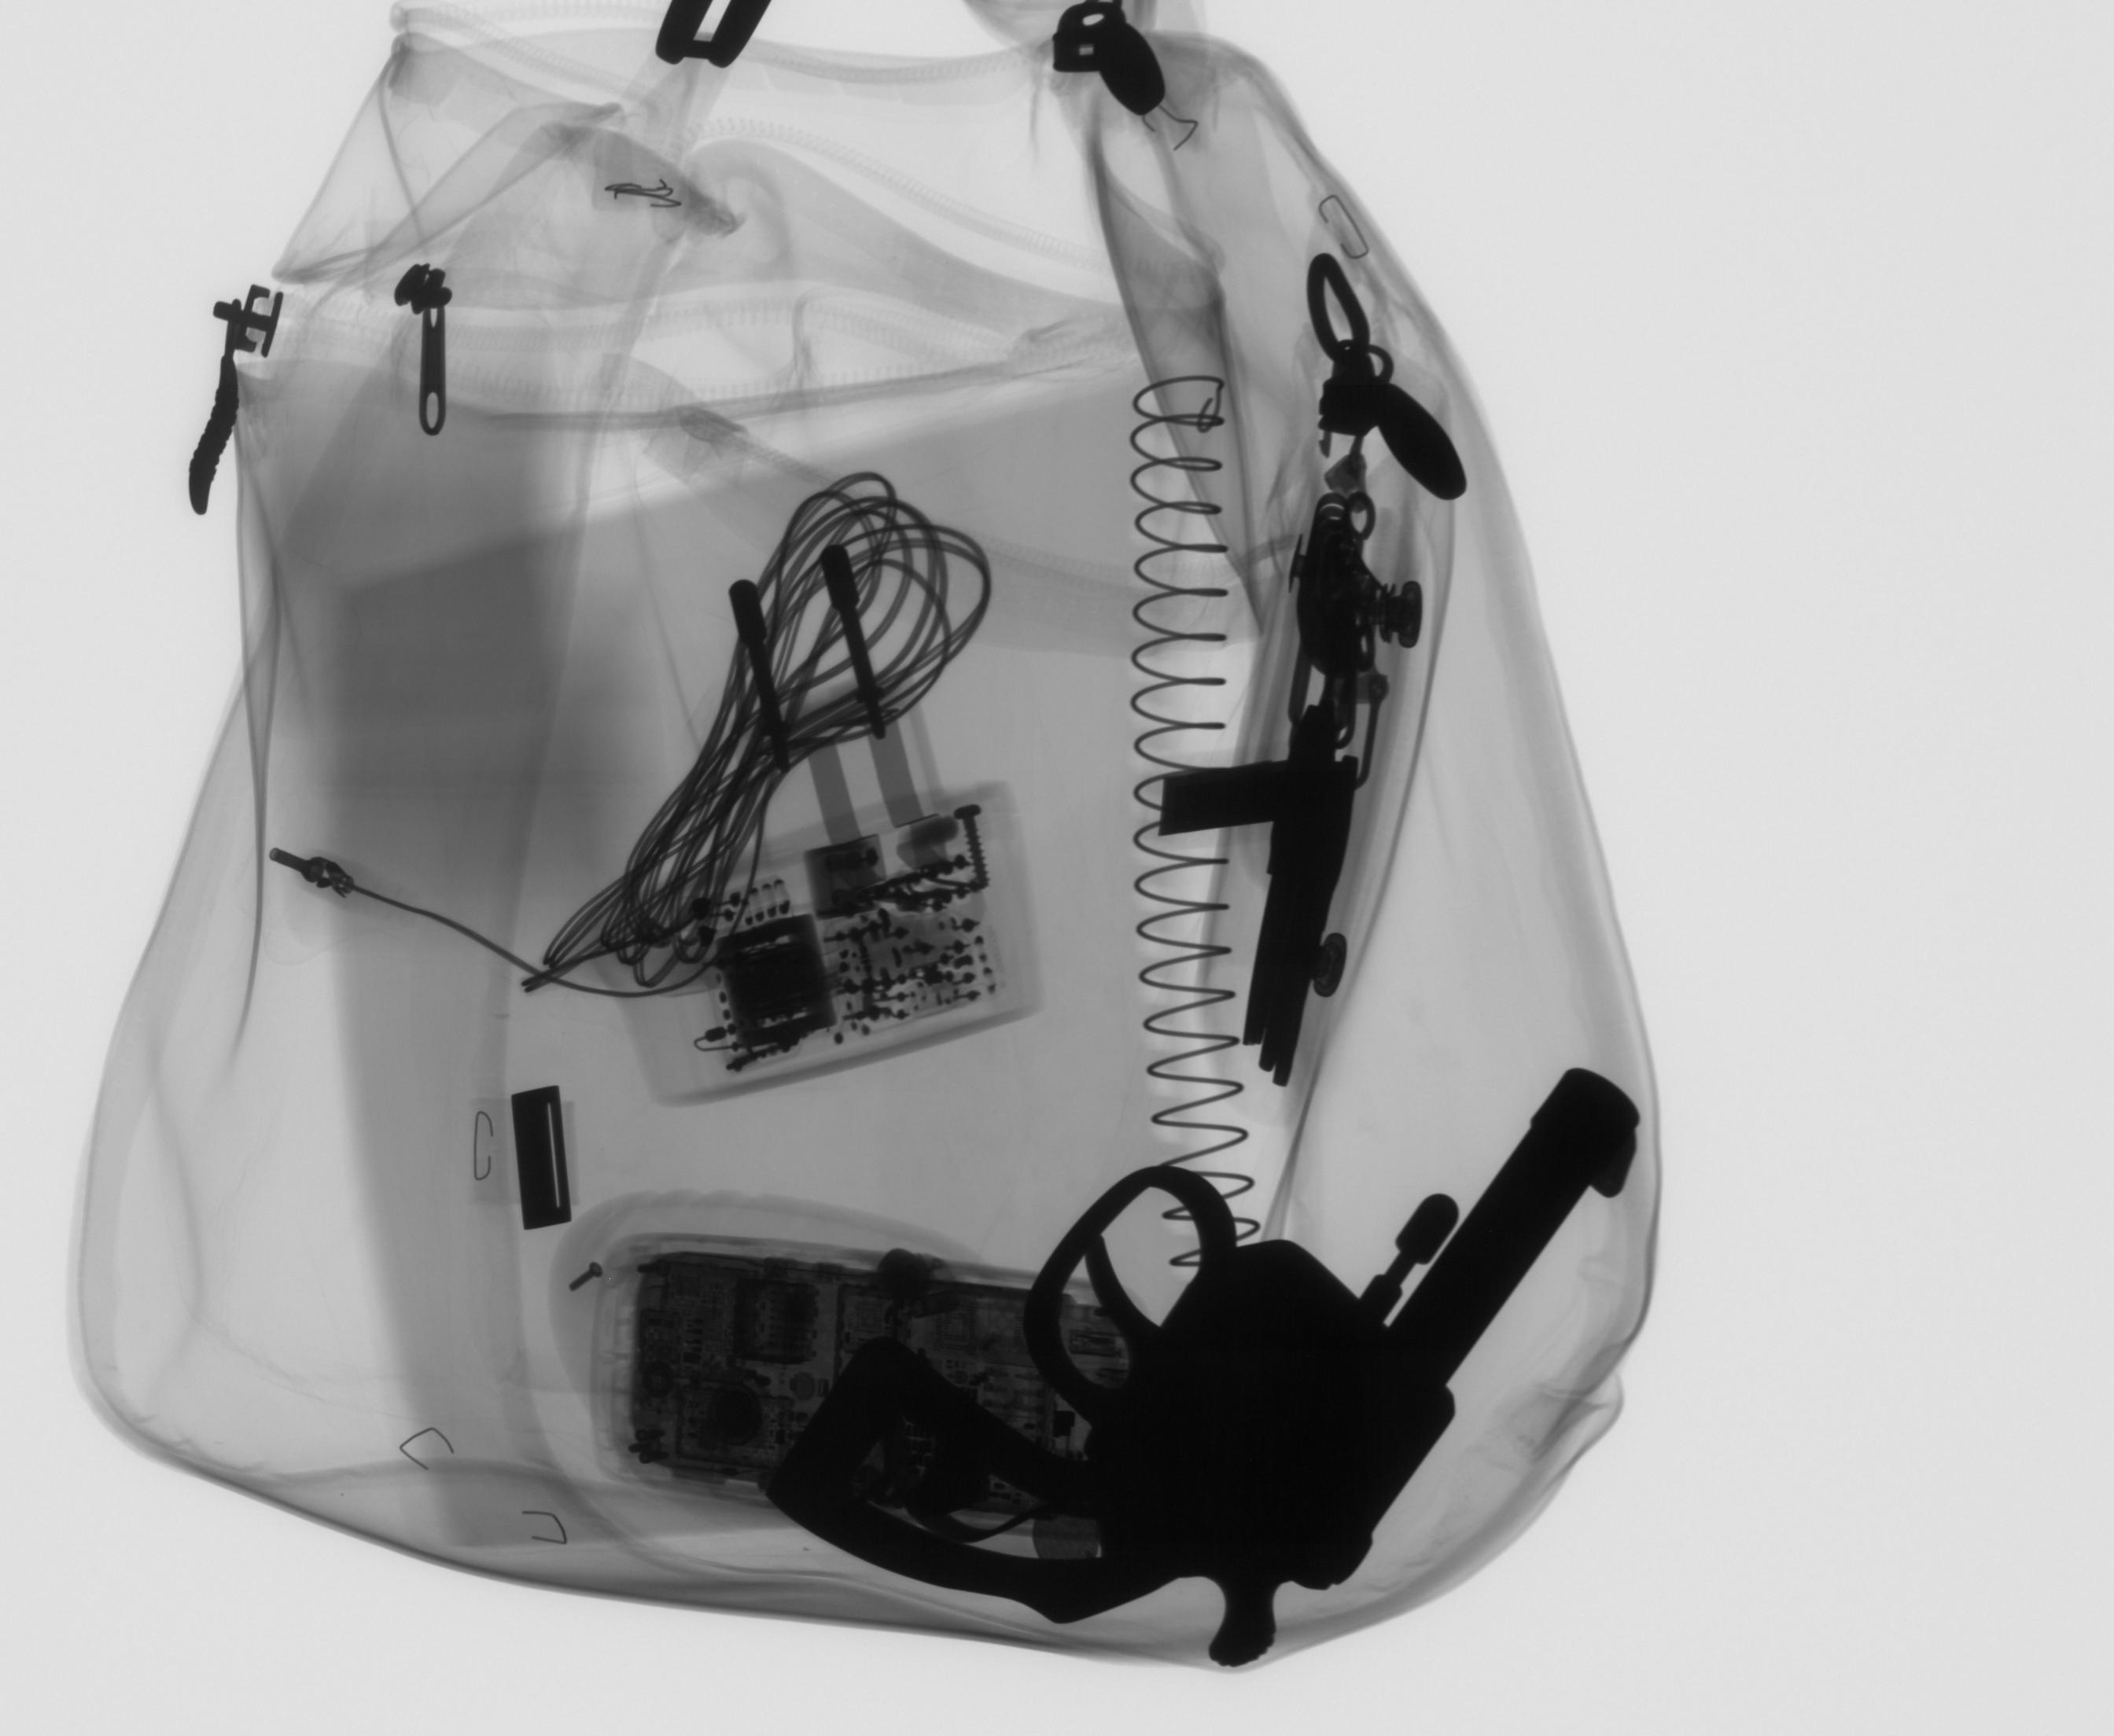Handgun: (748, 1057, 1654, 1680)
